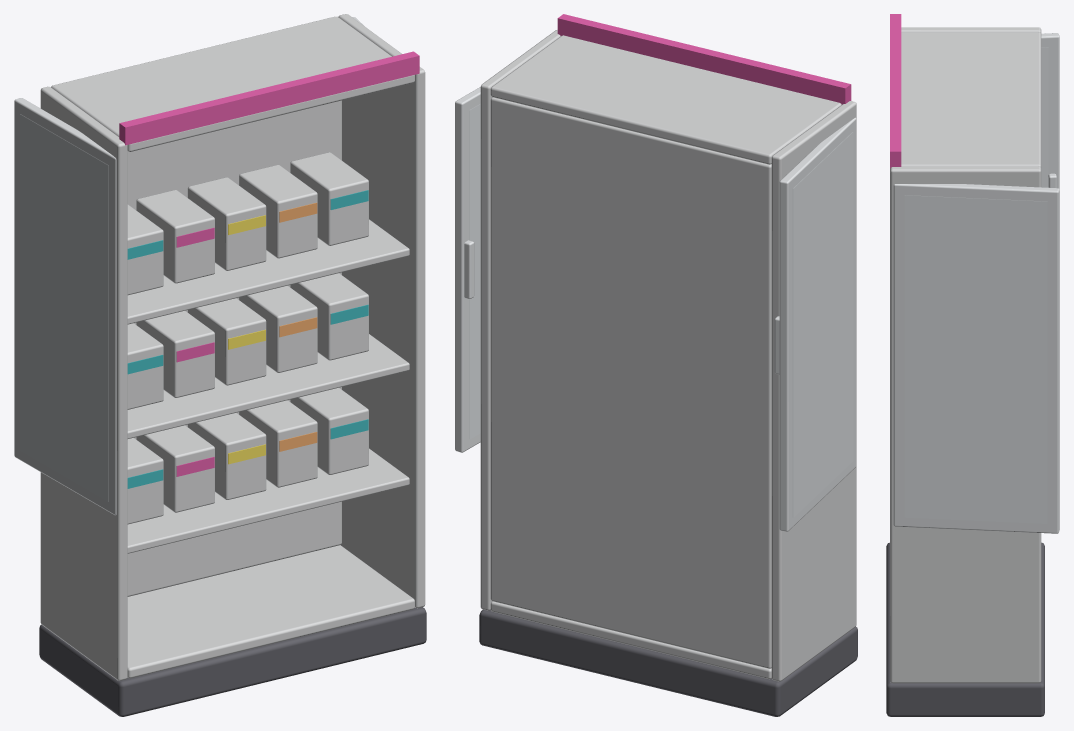
The model's file is tattoo-and-piercing-studio-sterile-store-cabinet-open-74c6306c__34539.glb.
3 views of the same model, side by side, from view 1: azimuth 30°, elevation 25°; view 2: azimuth 150°, elevation 25°; view 3: azimuth 270°, elevation 25° (orthographic). The views are drawn at different scales.
Visible parts, largest first — view 1: sterile-store-cabinet-open, door-left (×2); view 2: sterile-store-cabinet-open, door-left (×2), door-right (×2); view 3: door-right (×2), sterile-store-cabinet-open, door-left (×2).
Part boxes in pixels (<box>): sterile-store-cabinet-open: <box>39,14,426,716</box>; door-left (×2): <box>14,98,116,515</box>; sterile-store-cabinet-open: <box>479,14,857,716</box>; door-left (×2): <box>774,117,856,531</box>; door-right (×2): <box>455,87,480,452</box>; door-right (×2): <box>893,184,1059,533</box>; sterile-store-cabinet-open: <box>886,14,1044,716</box>; door-left (×2): <box>1041,33,1059,189</box>.
Bounding box in the file's own units: 0.9968 × 1.64 × 0.4584.
